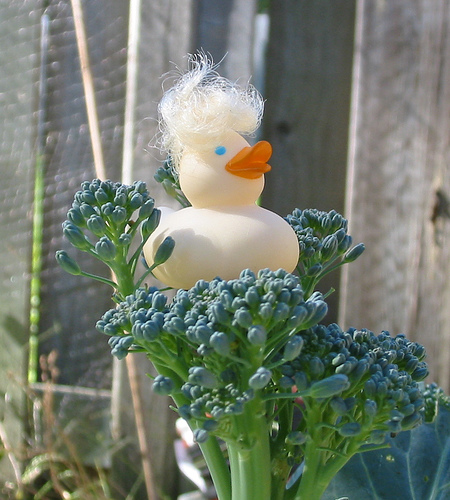broccoli: (93, 267, 341, 498), (280, 322, 437, 498), (53, 177, 177, 287), (281, 206, 366, 295)
